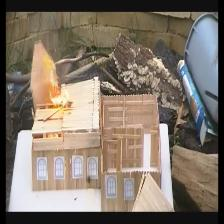fire: (32, 35, 72, 116)
